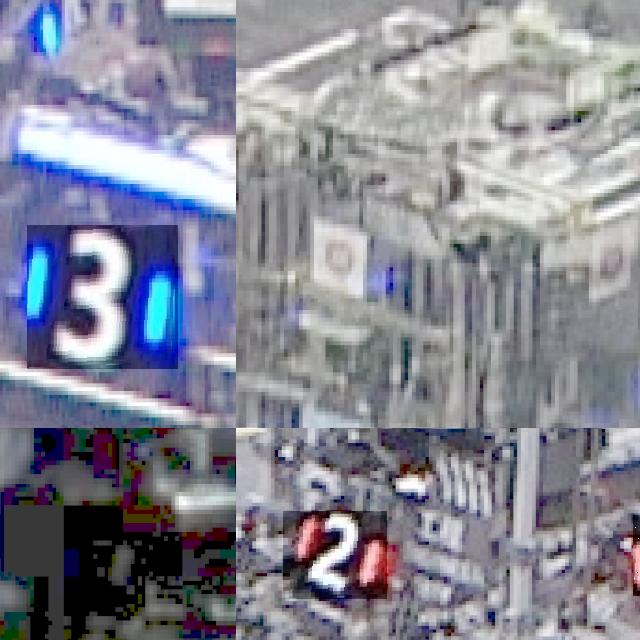B3: (28, 225, 180, 369)
R2: (283, 512, 387, 600)
